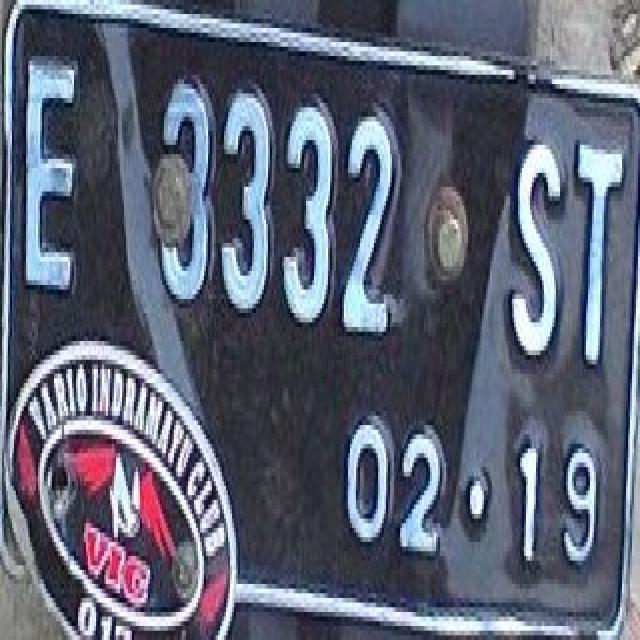plate: (2, 0, 638, 631)
